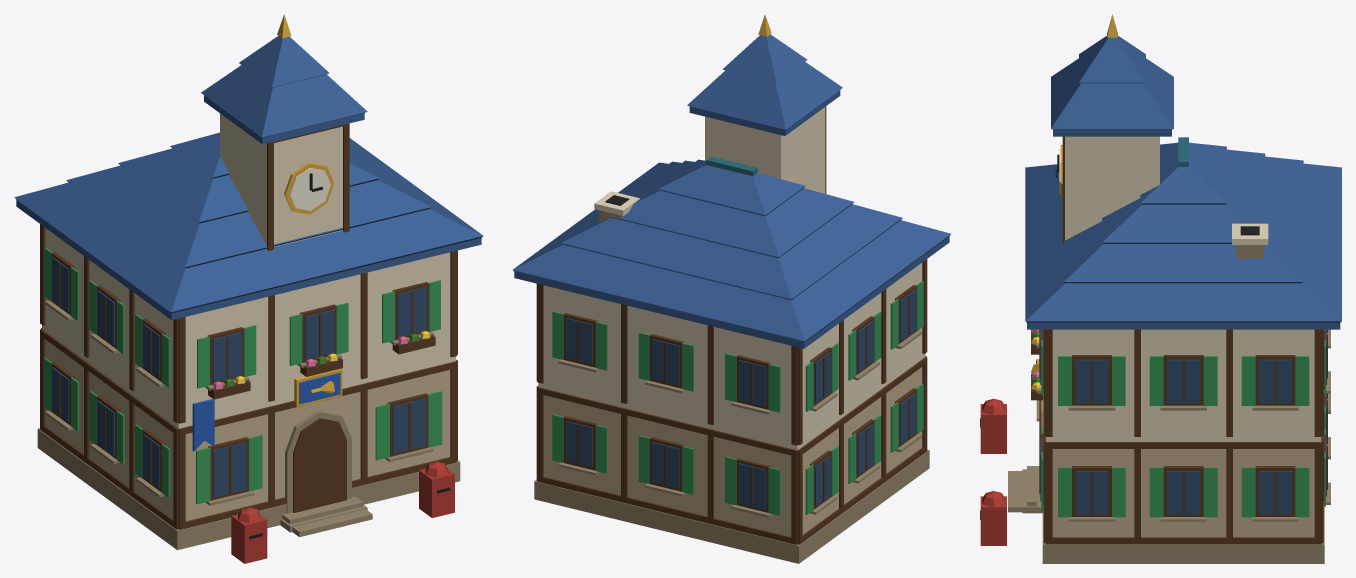
File: PostOffice.fbx
3 renders of one model, left to right at view 1: azimuth 30°, elevation 25°; view 2: azimuth 150°, elevation 25°; view 3: azimuth 270°, elevation 25°, orthographic. The views are drawn at different scales.
Visible parts, largest first — view 1: PostOffice; view 2: PostOffice; view 3: PostOffice.
Part boxes in pixels (box(x1,y1,x2,y2)): PostOffice: box(14, 14, 483, 563); PostOffice: box(513, 14, 950, 563); PostOffice: box(980, 14, 1341, 563).
Bounding box in the file's own units: 7.67 × 11.16 × 7.62.
